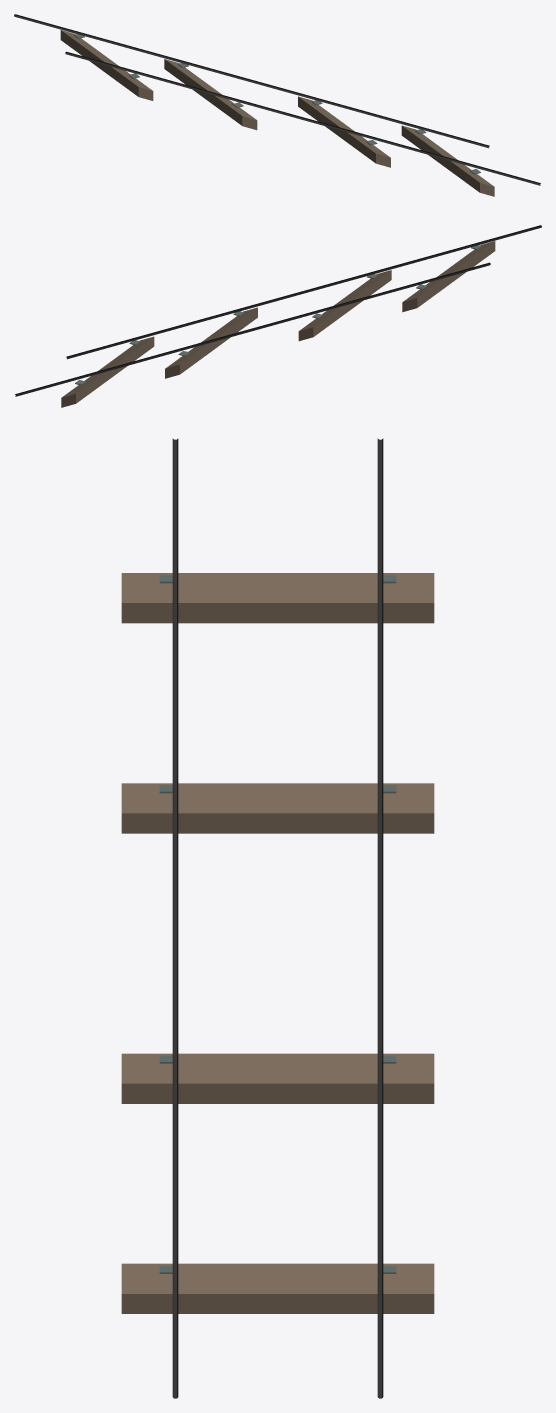
3 renders of one model, top to bottom at view 1: azimuth 30°, elevation 25°; view 2: azimuth 150°, elevation 25°; view 3: azimuth 270°, elevation 25°, orthographic. The views are drawn at different scales.
Parts seen in each view (by area): view 1: RL46 | archived geometry, RL46 | line, light and sprite surfaces, Fitted street and landscape details; view 2: RL46 | archived geometry, RL46 | line, light and sprite surfaces, Fitted street and landscape details; view 3: RL46 | archived geometry, RL46 | line, light and sprite surfaces.
Boxes of the visible parts, <box> form: RL46 | archived geometry: <box>60,30,494,196</box>; RL46 | line, light and sprite surfaces: <box>14,14,540,185</box>; Fitted street and landscape details: <box>74,34,480,174</box>; RL46 | archived geometry: <box>61,241,495,407</box>; RL46 | line, light and sprite surfaces: <box>15,225,541,396</box>; Fitted street and landscape details: <box>75,245,481,385</box>; RL46 | archived geometry: <box>121,573,434,1313</box>; RL46 | line, light and sprite surfaces: <box>172,438,383,1398</box>.
Bounding box in the file's own units: 16.09 × 8.07 × 4.57.
